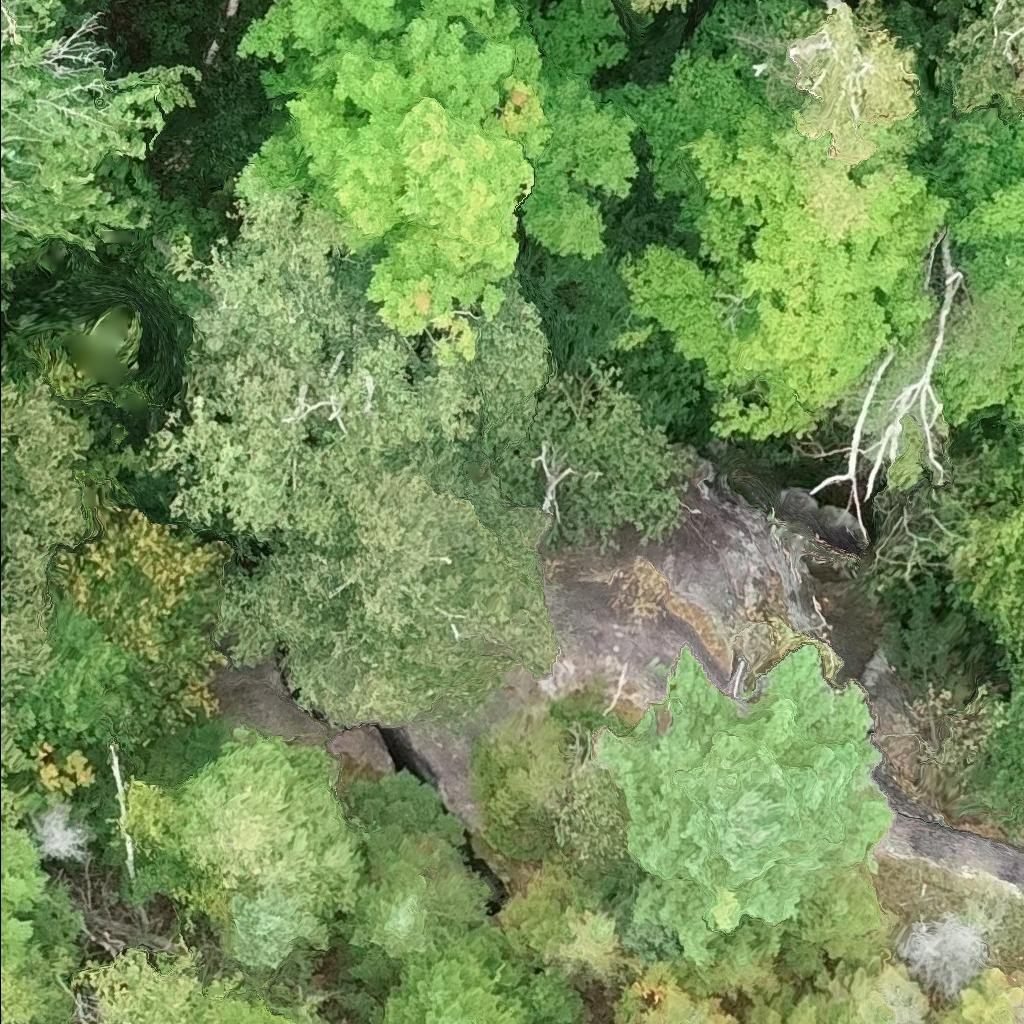crown: (145, 182, 549, 545), (603, 28, 954, 439), (235, 0, 560, 367), (590, 641, 894, 972), (212, 439, 559, 727), (0, 0, 203, 285), (332, 764, 491, 984), (922, 107, 1023, 426), (517, 0, 635, 257), (785, 0, 917, 165), (233, 0, 513, 66), (372, 917, 538, 1023), (0, 371, 96, 547), (0, 532, 58, 733), (929, 0, 1023, 124), (628, 0, 691, 15), (0, 434, 18, 475), (0, 373, 11, 400), (519, 0, 528, 7)
